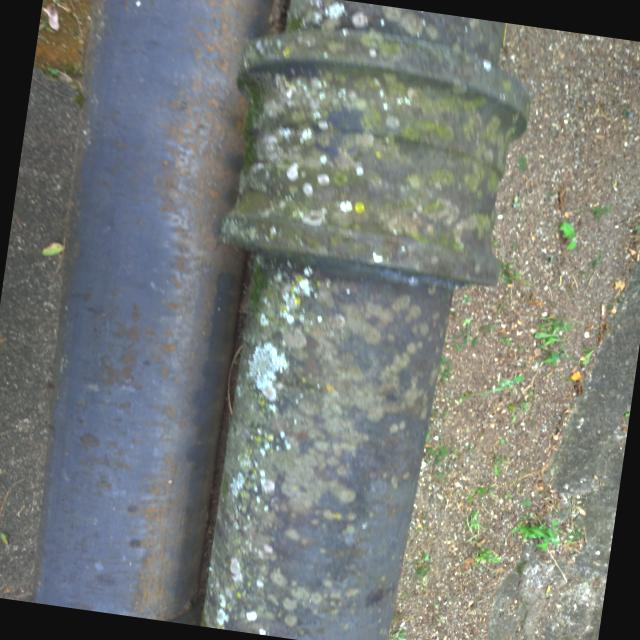gas: (161, 0, 540, 640), (9, 0, 286, 626)
